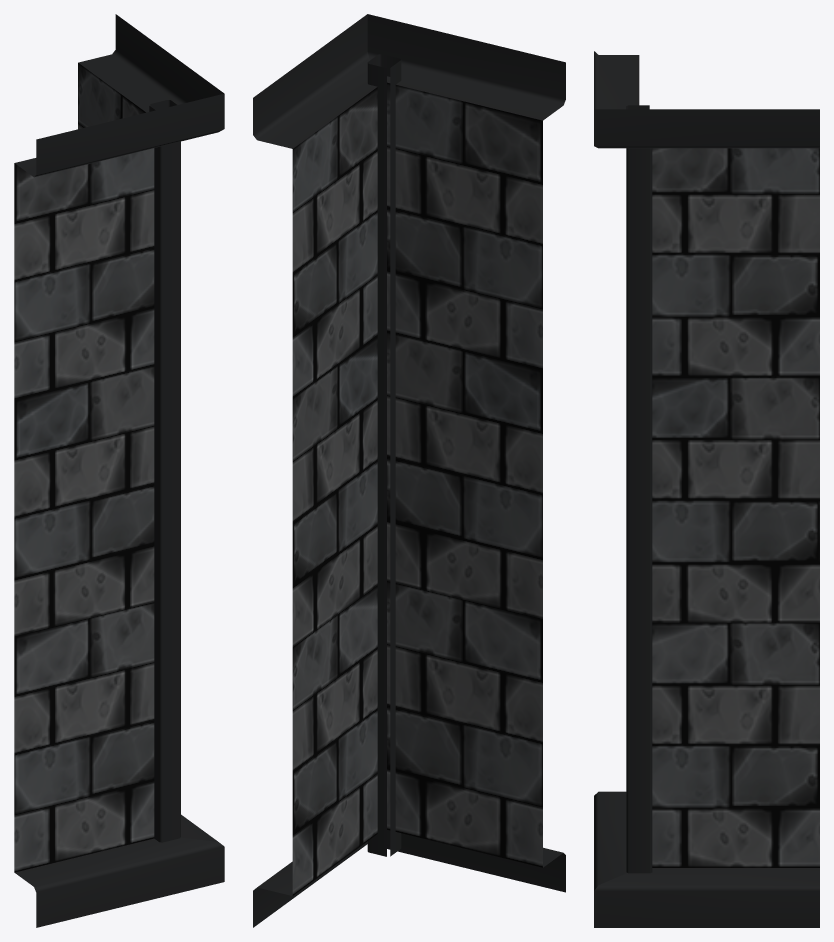
Rendered from M_Wall_Angle_Exterior.fbx.
3 renders of one model, left to right at view 1: azimuth 30°, elevation 25°; view 2: azimuth 150°, elevation 25°; view 3: azimuth 270°, elevation 25°, orthographic. The views are drawn at different scales.
Visible parts, largest first — view 1: Wall_Angle_Exterior; view 2: Wall_Angle_Exterior; view 3: Wall_Angle_Exterior.
Boxes of the visible parts, x1,y1,x2,y2 form: Wall_Angle_Exterior: (14,14,224,927); Wall_Angle_Exterior: (253,14,565,927); Wall_Angle_Exterior: (594,51,819,927).
Bounding box in the file's own units: 100 × 400 × 100.
